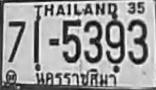1: (33, 20, 40, 64)
3: (128, 20, 148, 65), (84, 20, 102, 63)
5: (63, 20, 81, 63)
7: (7, 20, 26, 62)
9: (105, 20, 124, 65)
NMA: (32, 67, 122, 90)
